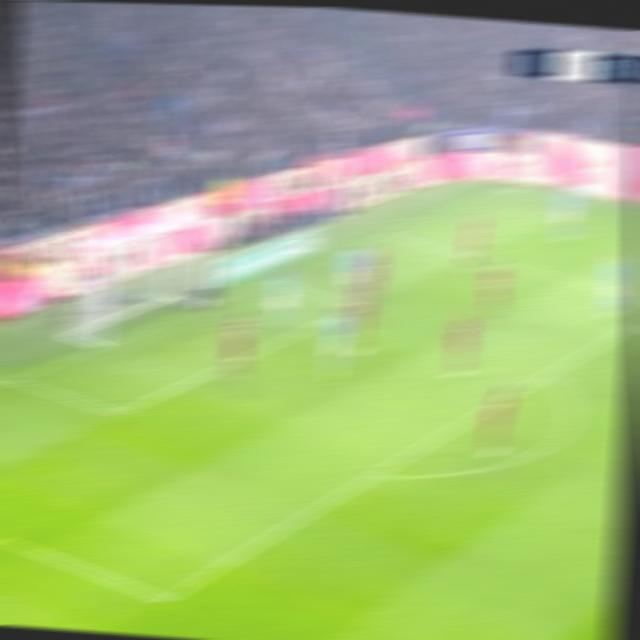bigarea_bottom_inner: (152, 585, 183, 614)
bigarea_top_outter: (376, 227, 398, 240)
bottom_arc_area_intersection: (363, 465, 388, 485)
corner: (497, 182, 519, 192)
smallarea_bottom_inner: (105, 398, 134, 428)
smallarea_bottom_outter: (2, 368, 30, 390)
smallarea_top_inner: (343, 300, 362, 313)
smallarea_top_outter: (259, 275, 282, 286)
top_arc_area_intersection: (538, 364, 563, 384)
